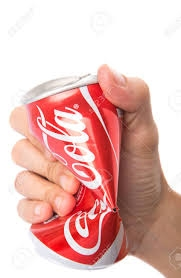metal: (12, 67, 133, 276)
